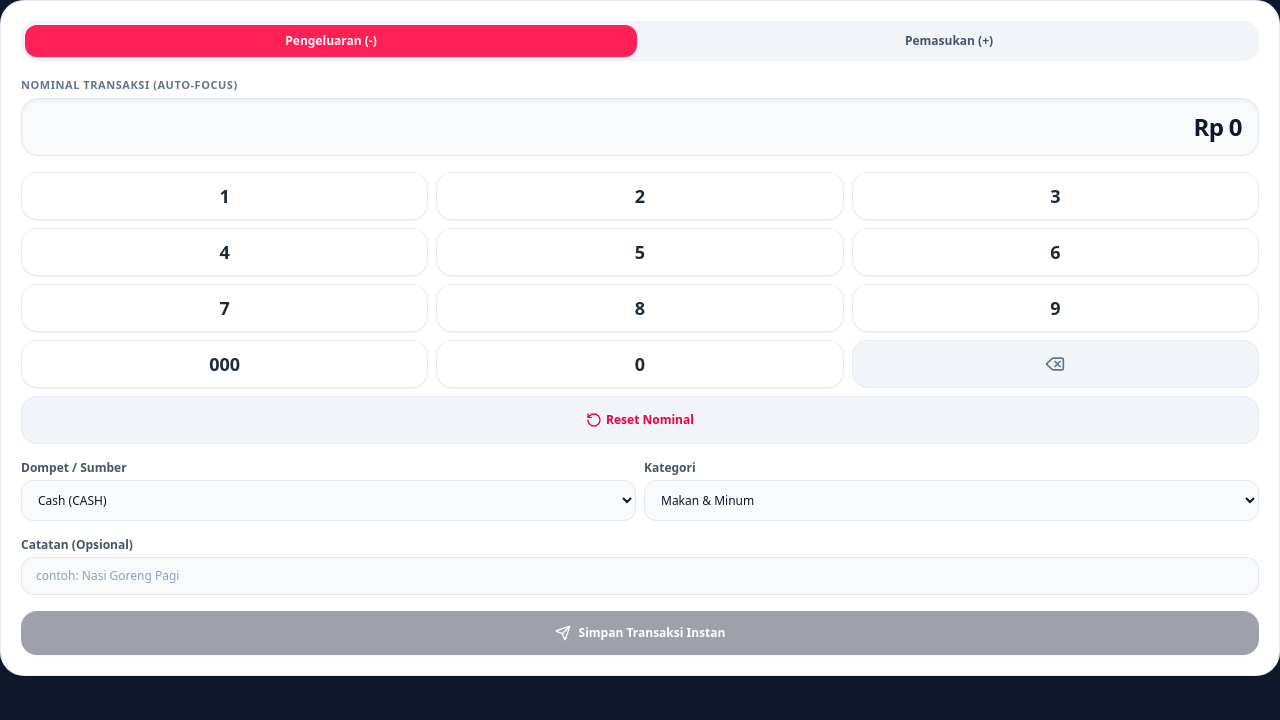
it: Black-box Test: QuickEntryForm Component UI › should update amount display when numpad buttons are pressed
# Press Numpad '1', '5', '000'
Step 1. Click the button "1" → (225, 196), box [21,172,428,220]
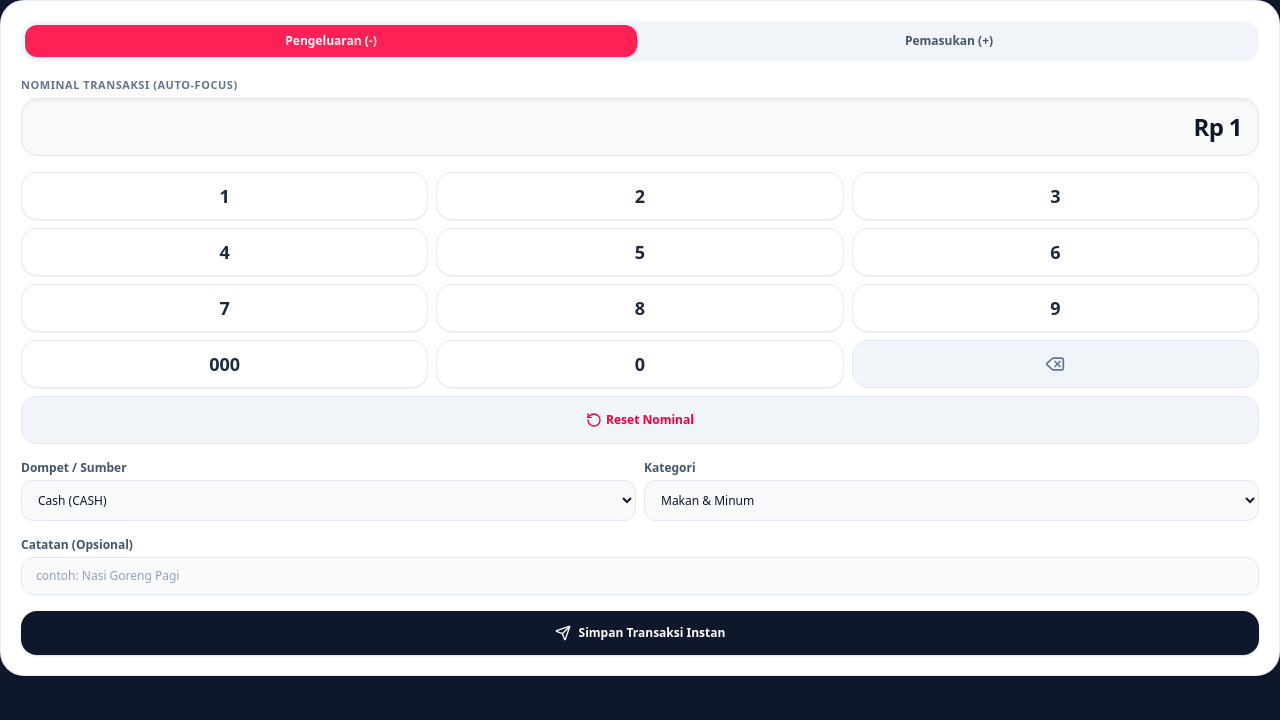
Step 2. Click the button "5" → (640, 252), box [436,228,844,276]
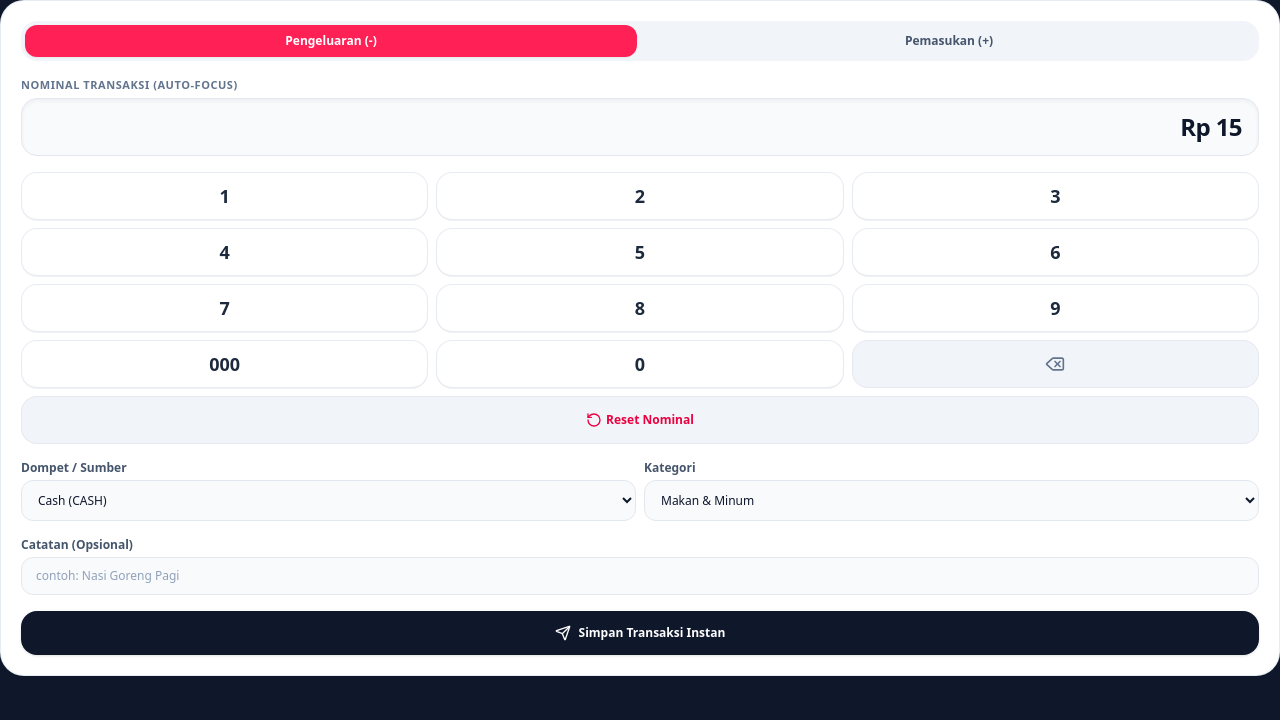
Step 3. Click the button "000" → (225, 364), box [21,340,428,388]
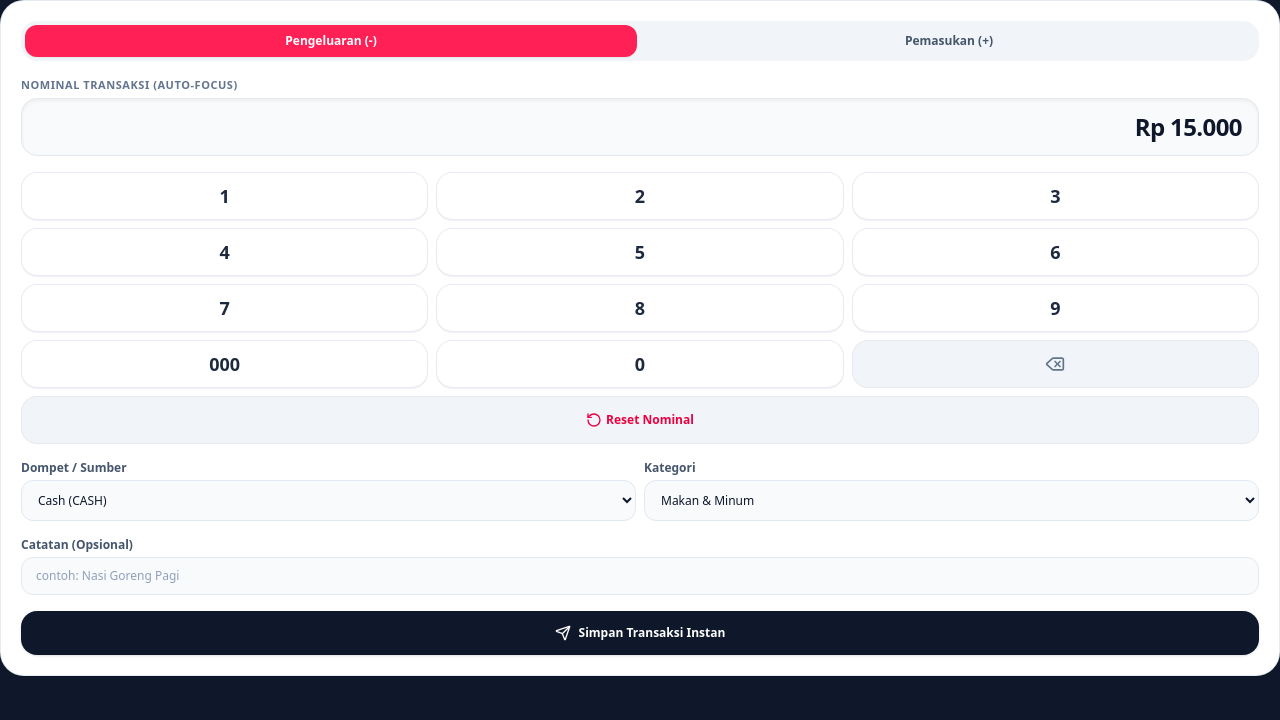
Expected: the field showing "Rp 15.000" is shown, [21,98,1259,156]
